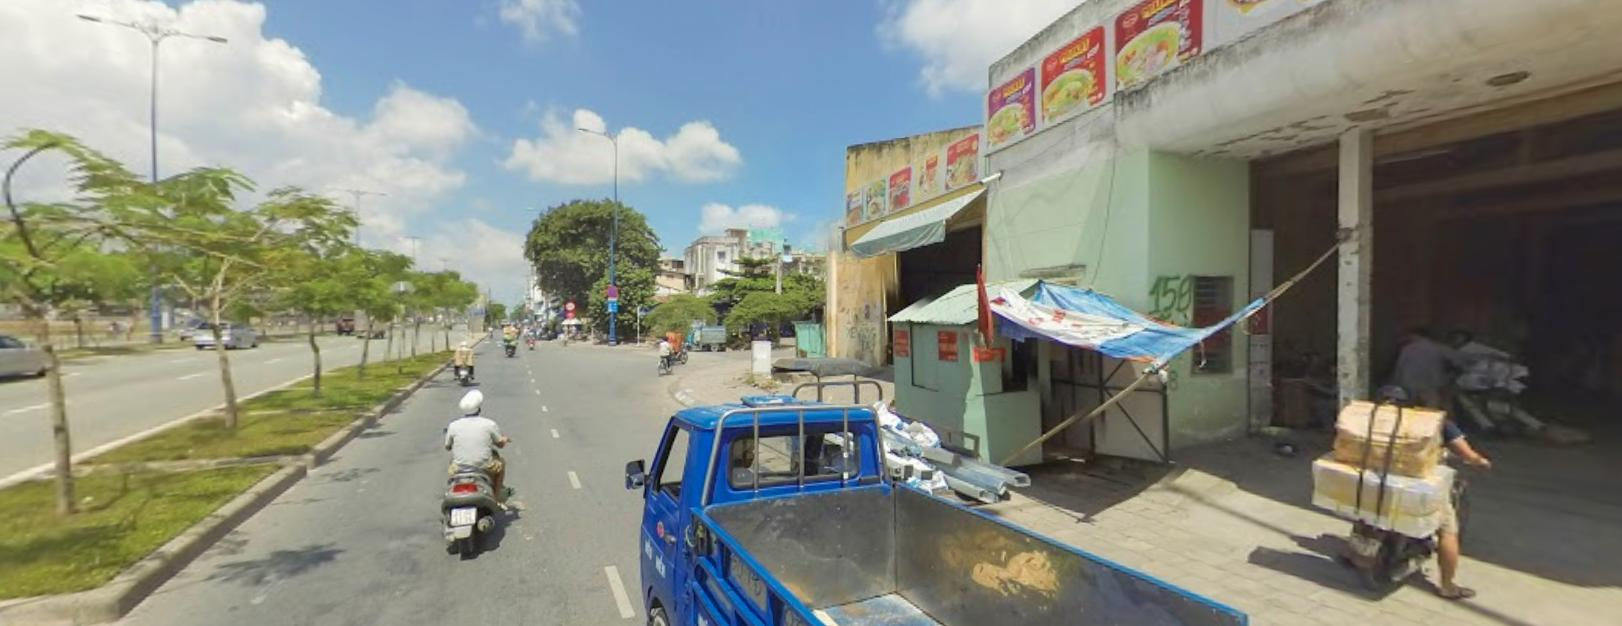Cam con lai: (563, 299, 575, 309)
Cam dung va do: (606, 284, 618, 295)
